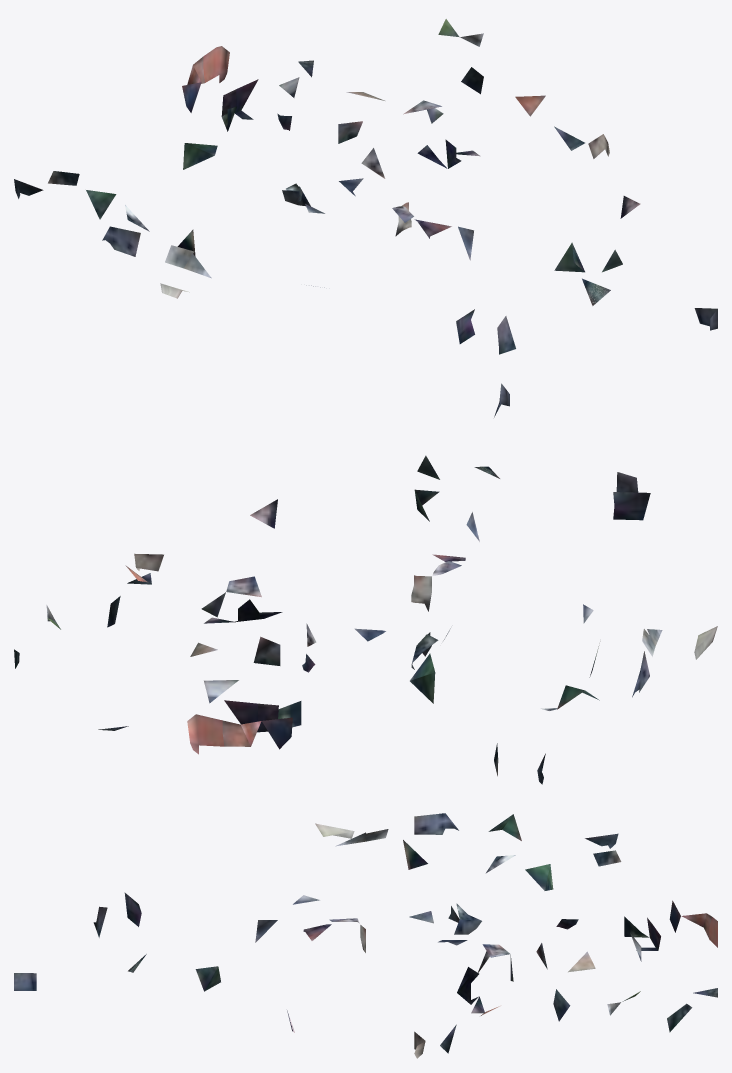
3 renders of one model, top to bottom at view 1: azimuth 30°, elevation 25°; view 2: azimuth 150°, elevation 25°; view 3: azimuth 270°, elevation 25°, orthographic. The views are drawn at different scales.
Parts seen in each view (by area): view 1: 304362727043617045_1; view 2: 304362727043617045_1; view 3: 304362727043617045_1.
Part boxes in pixels (x1=…): 304362727043617045_1: x1=14, y1=19, x2=717, y2=354; 304362727043617045_1: x1=14, y1=383, x2=717, y2=784; 304362727043617045_1: x1=14, y1=813, x2=717, y2=1058.
Bounding box in the file's own units: 109 × 12.95 × 153.
1 material, 1 textured.
